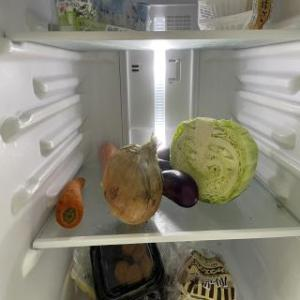cabbage: (170, 120, 260, 204)
carrot: (54, 177, 86, 229), (97, 140, 118, 168)
eggplant: (158, 170, 198, 209), (158, 142, 173, 160), (157, 157, 169, 170)
onion: (104, 138, 164, 226)
